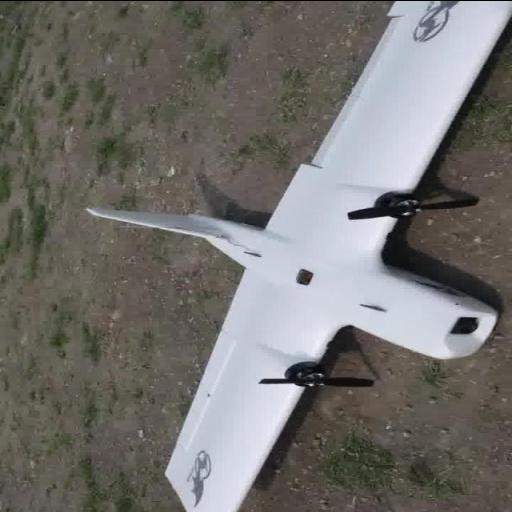uav: (83, 0, 510, 511)
